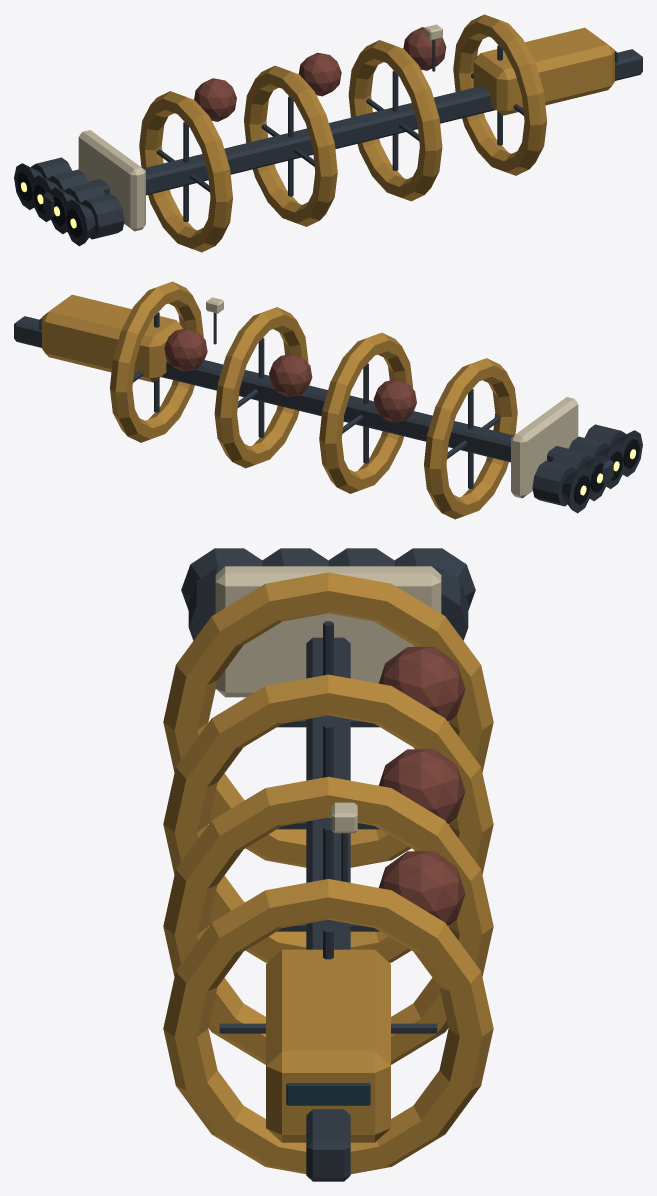
The model's file is first-weather.glb.
The picture shows the model from 3 angles, top to bottom: view 1: azimuth 30°, elevation 25°; view 2: azimuth 150°, elevation 25°; view 3: azimuth 270°, elevation 25°; orthographic projection. The views are drawn at different scales.
Visible parts, largest first — view 1: structural spine, forward command, habitat wheel.002, habitat wheel.001, habitat wheel, habitat wheel.003, reactor shield, biome vault, biome vault.001, engine jacket, biome vault.002, engine bell (+6 smaller); view 2: structural spine, habitat wheel, forward command, habitat wheel.002, habitat wheel.001, habitat wheel.003, reactor shield, biome vault.001, biome vault.002, biome vault, engine jacket.003, engine bell.003 (+6 smaller); view 3: habitat wheel.003, habitat wheel.002, habitat wheel, habitat wheel.001, forward command, reactor shield, structural spine, biome vault.002, biome vault.001, biome vault, bridge glazing, engine bell (+5 smaller).
Boxes of the visible parts, <box> form: structural spine: <box>43,49,642,217</box>; forward command: <box>473,27,614,115</box>; habitat wheel.002: <box>348,40,442,201</box>; habitat wheel.001: <box>244,65,337,226</box>; habitat wheel: <box>139,91,232,252</box>; habitat wheel.003: <box>453,14,546,175</box>; reactor shield: <box>78,130,145,231</box>; biome vault: <box>194,78,236,121</box>; biome vault.001: <box>298,52,341,96</box>; engine jacket: <box>80,193,124,239</box>; biome vault.002: <box>403,27,446,70</box>; engine bell: <box>65,199,95,246</box>; structural spine: <box>14,316,613,484</box>; habitat wheel: <box>424,358,517,519</box>; forward command: <box>42,294,182,382</box>; habitat wheel.002: <box>214,307,308,468</box>; habitat wheel.001: <box>319,332,412,493</box>; habitat wheel.003: <box>110,281,203,442</box>; reactor shield: <box>511,397,578,498</box>; biome vault.001: <box>269,353,312,397</box>; biome vault.002: <box>164,328,207,371</box>; biome vault: <box>373,379,416,422</box>; engine jacket.003: <box>532,460,576,506</box>; engine bell.003: <box>561,466,589,513</box>; habitat wheel.003: <box>163,879,493,1174</box>; habitat wheel.002: <box>163,776,493,1064</box>; habitat wheel: <box>163,572,493,867</box>; habitat wheel.001: <box>163,674,493,962</box>; forward command: <box>266,949,390,1142</box>; reactor shield: <box>215,566,441,697</box>; structural spine: <box>306,637,350,1181</box>; biome vault.002: <box>378,851,465,925</box>; biome vault.001: <box>379,749,465,823</box>; biome vault: <box>378,647,465,721</box>; bridge glazing: <box>286,1083,370,1105</box>; engine bell: <box>181,548,262,610</box>.
Bounding box in the file's own units: 16.96 × 4.24 × 4.1.
